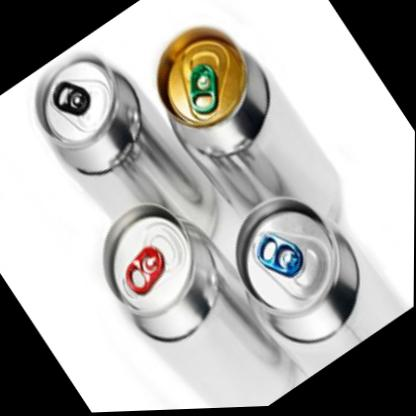metal: (230, 63, 341, 224), (237, 198, 358, 340), (105, 205, 216, 339), (158, 27, 267, 155), (44, 61, 139, 173)
